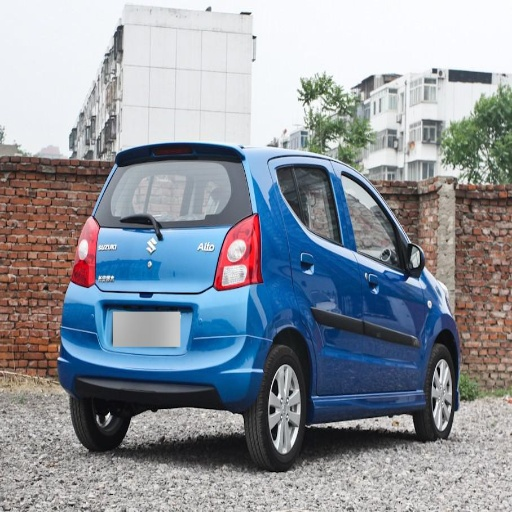back_bumper: (60, 283, 272, 408)
back_right_door: (278, 164, 362, 396)
back_right_light: (214, 215, 261, 289)
trunk: (90, 228, 232, 349)
